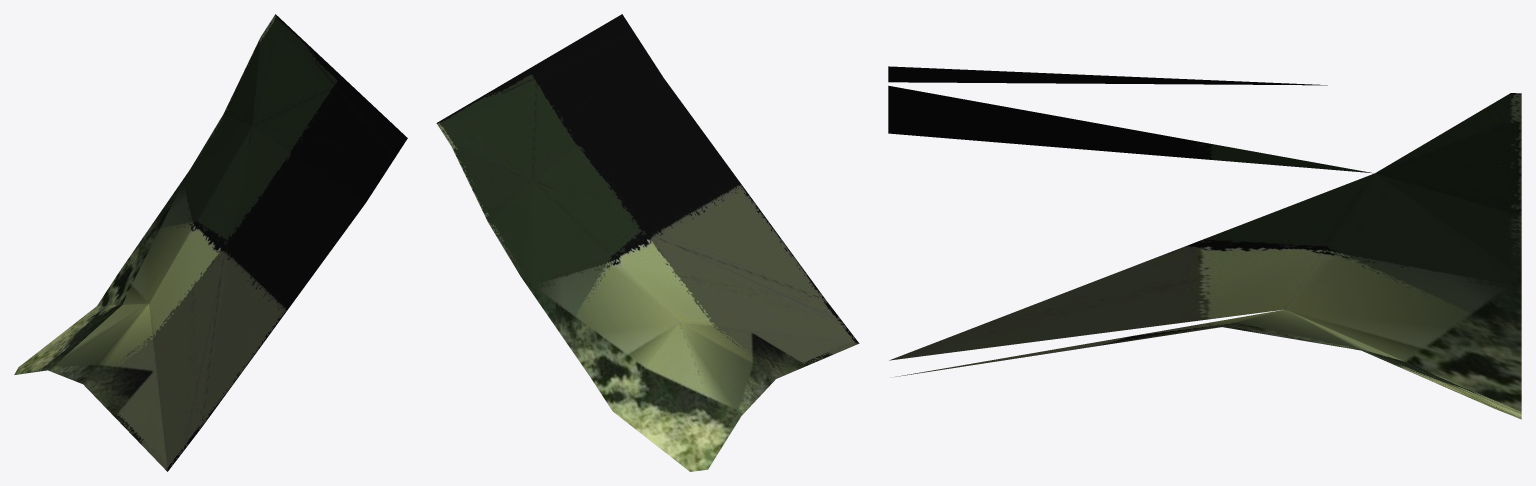
3 renders of one model, left to right at view 1: azimuth 30°, elevation 25°; view 2: azimuth 150°, elevation 25°; view 3: azimuth 270°, elevation 25°, orthographic. The views are drawn at different scales.
Size of the model in its own units: 5.7 by 5.9 by 5.9.
3 materials, 3 textured.
